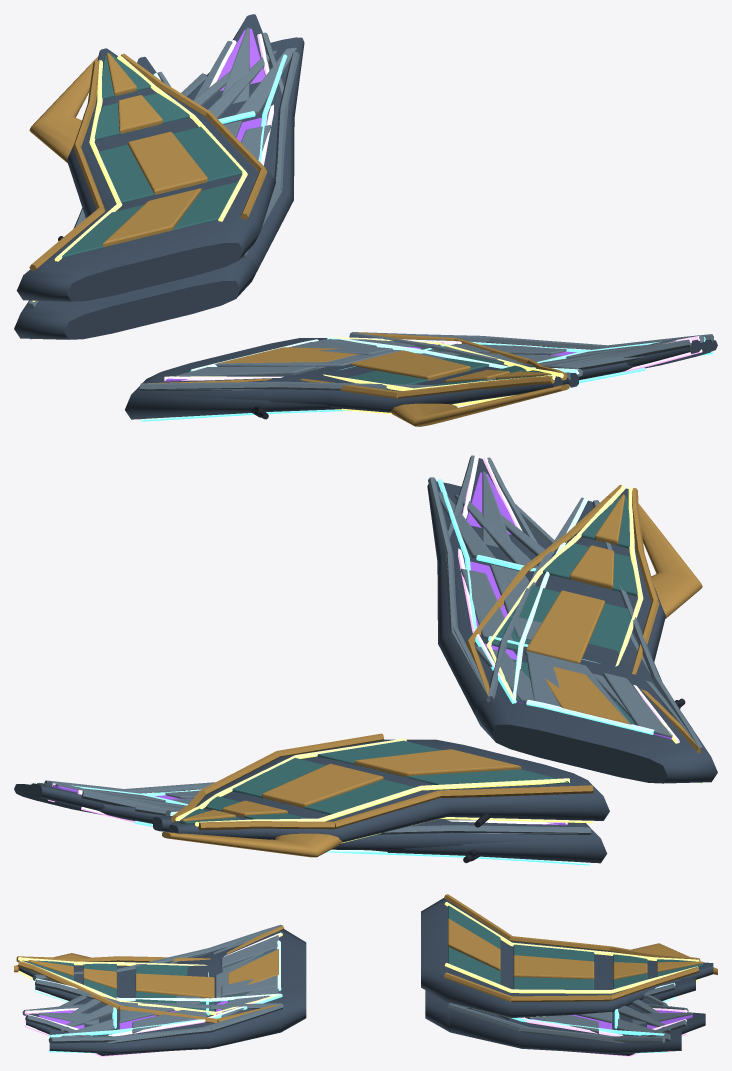
Rendered from wings.glb.
The picture shows the model from 3 angles, top to bottom: view 1: azimuth 30°, elevation 25°; view 2: azimuth 150°, elevation 25°; view 3: azimuth 270°, elevation 25°; orthographic projection. The views are drawn at different scales.
Visible parts, largest first — view 1: w_phantom Champagne gold edging, w_phantom Fitting gunmetal, w_razor Fitting gunmetal, w_phantom Phantom blue-black enamel, w_vane Fitting gunmetal, w_vane Brushed fitting edges, w_prism Brushed fitting edges, w_razor Brushed fitting edges, w_phantom w_phantom emitter, w_vane w_vane emitter, w_prism w_prism emitter, w_razor w_razor emitter (+2 smaller); view 2: w_phantom Champagne gold edging, w_razor Fitting gunmetal, w_phantom Fitting gunmetal, w_phantom Phantom blue-black enamel, w_vane Brushed fitting edges, w_vane Fitting gunmetal, w_razor Brushed fitting edges, w_prism Brushed fitting edges, w_phantom w_phantom emitter, w_vane w_vane emitter, w_prism w_prism emitter, w_razor w_razor emitter (+2 smaller); view 3: w_phantom Champagne gold edging, w_phantom Fitting gunmetal, w_vane Fitting gunmetal, w_vane Brushed fitting edges, w_phantom Phantom blue-black enamel, w_razor Fitting gunmetal, w_prism Brushed fitting edges, w_razor Brushed fitting edges, w_phantom w_phantom emitter, w_prism w_prism emitter, w_vane w_vane emitter, w_prism Fitting gunmetal (+2 smaller).
Boxes of the visible parts, x1,y1,x2,y2 form: w_phantom Champagne gold edging: (29, 53, 569, 426); w_phantom Fitting gunmetal: (16, 48, 562, 412); w_razor Fitting gunmetal: (14, 56, 578, 406); w_phantom Phantom blue-black enamel: (62, 54, 551, 386); w_vane Fitting gunmetal: (125, 37, 717, 419); w_vane Brushed fitting edges: (140, 47, 713, 390); w_prism Brushed fitting edges: (31, 27, 704, 366); w_razor Brushed fitting edges: (27, 71, 582, 390); w_phantom w_phantom emitter: (32, 55, 563, 414); w_vane w_vane emitter: (29, 54, 713, 421); w_prism w_prism emitter: (30, 33, 702, 381); w_razor w_razor emitter: (141, 73, 580, 420); w_phantom Champagne gold edging: (162, 485, 702, 857); w_razor Fitting gunmetal: (153, 500, 717, 850); w_phantom Fitting gunmetal: (169, 488, 665, 842); w_phantom Phantom blue-black enamel: (179, 495, 637, 824); w_vane Brushed fitting edges: (37, 477, 703, 834); w_vane Fitting gunmetal: (14, 481, 607, 863); w_razor Brushed fitting edges: (165, 497, 704, 834); w_prism Brushed fitting edges: (46, 455, 697, 834); w_phantom w_phantom emitter: (175, 485, 700, 843); w_vane w_vane emitter: (70, 479, 701, 865); w_prism w_prism emitter: (48, 455, 679, 824); w_razor w_razor emitter: (170, 498, 702, 865); w_phantom Champagne gold edging: (14, 894, 717, 1023); w_phantom Fitting gunmetal: (18, 898, 713, 1017); w_vane Fitting gunmetal: (49, 999, 681, 1053); w_vane Brushed fitting edges: (48, 935, 670, 1043); w_phantom Phantom blue-black enamel: (28, 905, 703, 1011); w_razor Fitting gunmetal: (35, 929, 695, 1032); w_prism Brushed fitting edges: (22, 927, 692, 1043); w_razor Brushed fitting edges: (32, 924, 675, 1010); w_phantom w_phantom emitter: (18, 902, 699, 1017); w_prism w_prism emitter: (24, 932, 687, 1056); w_vane w_vane emitter: (48, 972, 665, 1053); w_prism Fitting gunmetal: (26, 1002, 705, 1055).
Bounding box in the file's own units: 32.59 × 8.04 × 58.82.
